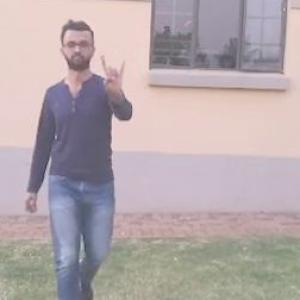takeoff-hand: (96, 48, 131, 105)
